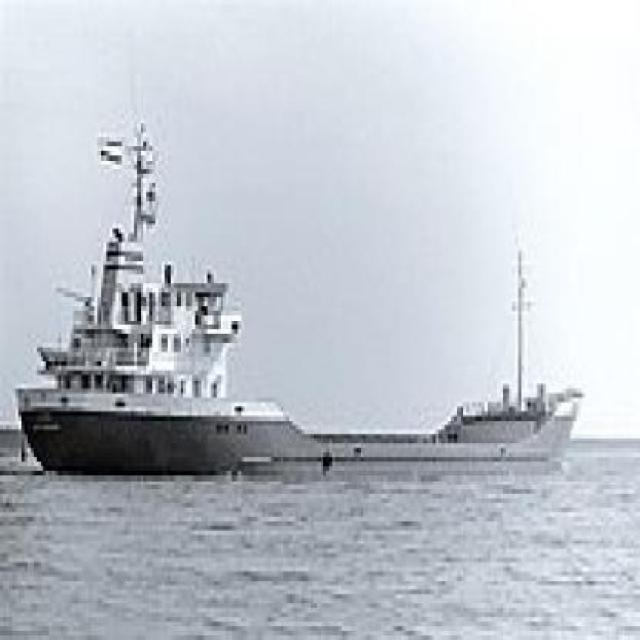container: (10, 83, 590, 500)
